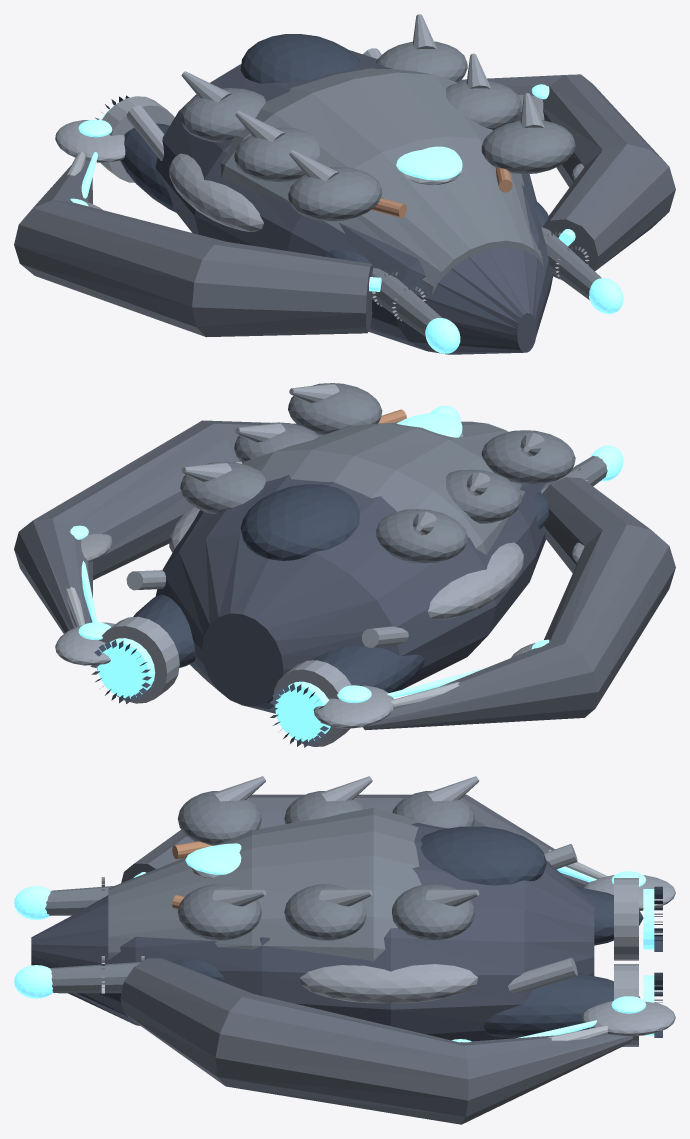
File: npc_devolarium.glb
3 views of the same model, one above another, from view 1: azimuth 30°, elevation 25°; view 2: azimuth 150°, elevation 25°; view 3: azimuth 270°, elevation 25° (orthographic).
Visible parts, largest first — view 1: armored_scythe_-1, upper_armor_scar, keel_pressure_hull, armored_scythe_1, destroyer_turret, dreadnox_dorsal_plating_1_0, dreadnox_dorsal_plating_-1_0, heavy_shield_pad_-1, dreadnox_dorsal_plating_-1_1, dreadnox_dorsal_plating_-1_2, dreadnox_dorsal_plating_1_1, dreadnox_dorsal_plating_1_2 (+16 smaller); view 2: keel_pressure_hull, armored_scythe_-1, armored_scythe_1, upper_armor_scar, destroyer_turret, dreadnox_dorsal_plating_-1_0, dreadnox_dorsal_plating_-1_2, heavy_shield_pad_-1, engine_armor_-1, dreadnox_dorsal_plating_1_0, exhaust_coil_1, dreadnox_dorsal_plating_1_2 (+22 smaller); view 3: armored_scythe_1, keel_pressure_hull, upper_armor_scar, destroyer_turret, heavy_shield_pad_1, engine_armor_1, armored_scythe_-1, dreadnox_dorsal_plating_1_0, dreadnox_dorsal_plating_-1_0, dreadnox_dorsal_plating_1_2, dreadnox_dorsal_plating_1_1, scythe_plate_1_2 (+21 smaller).
Part boxes in pixels (x1,y1,x2,y2): armored_scythe_-1: (14,160,373,337); upper_armor_scar: (220,68,543,294); keel_pressure_hull: (155,50,553,354); armored_scythe_1: (458,74,675,279); destroyer_turret: (240,34,359,83); dreadnox_dorsal_plating_1_0: (481,120,575,174); dreadnox_dorsal_plating_-1_0: (288,167,382,221); heavy_shield_pad_-1: (169,153,263,231); dreadnox_dorsal_plating_-1_1: (234,127,320,181); dreadnox_dorsal_plating_-1_2: (180,88,265,142); dreadnox_dorsal_plating_1_1: (446,81,521,130); dreadnox_dorsal_plating_1_2: (376,41,467,82); keel_pressure_hull: (155,475,545,713); armored_scythe_-1: (363,477,675,730); armored_scythe_1: (14,420,321,633); upper_armor_scar: (242,421,525,554); destroyer_turret: (240,484,359,560); dreadnox_dorsal_plating_-1_0: (481,430,575,484); dreadnox_dorsal_plating_-1_2: (376,509,467,563); heavy_shield_pad_-1: (427,542,523,619); engine_armor_-1: (313,646,424,692); dreadnox_dorsal_plating_1_0: (288,383,382,435); exhaust_coil_1: (96,616,179,703); dreadnox_dorsal_plating_1_2: (180,462,265,513); armored_scythe_1: (120,958,632,1124); keel_pressure_hull: (31,822,594,1041); upper_armor_scar: (108,807,421,960); destroyer_turret: (420,826,546,885); heavy_shield_pad_1: (299,964,477,1003); engine_armor_1: (484,973,639,1037); armored_scythe_-1: (121,794,589,887); dreadnox_dorsal_plating_1_0: (177,884,261,940); dreadnox_dorsal_plating_-1_0: (178,791,261,845); dreadnox_dorsal_plating_1_2: (392,884,474,940); dreadnox_dorsal_plating_1_1: (284,884,366,940); scythe_plate_1_2: (582,1001,675,1036).
Bounding box in the file's own units: 4.26 × 1.43 × 4.22.
